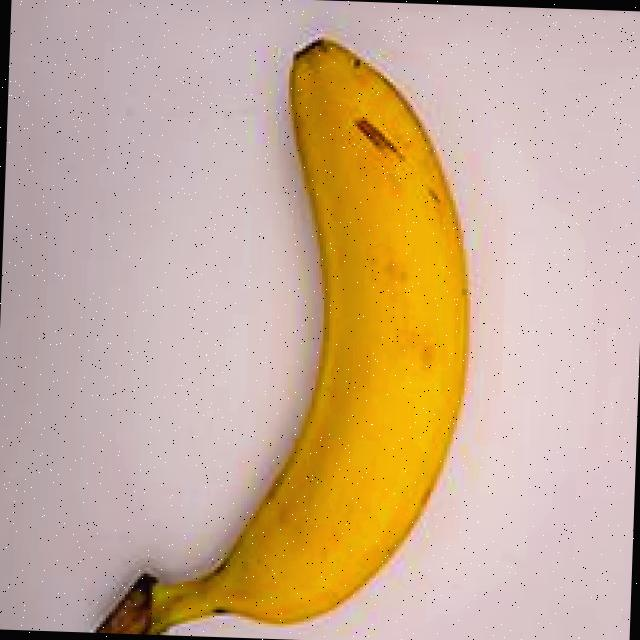Ripe: (40, 9, 491, 640)
